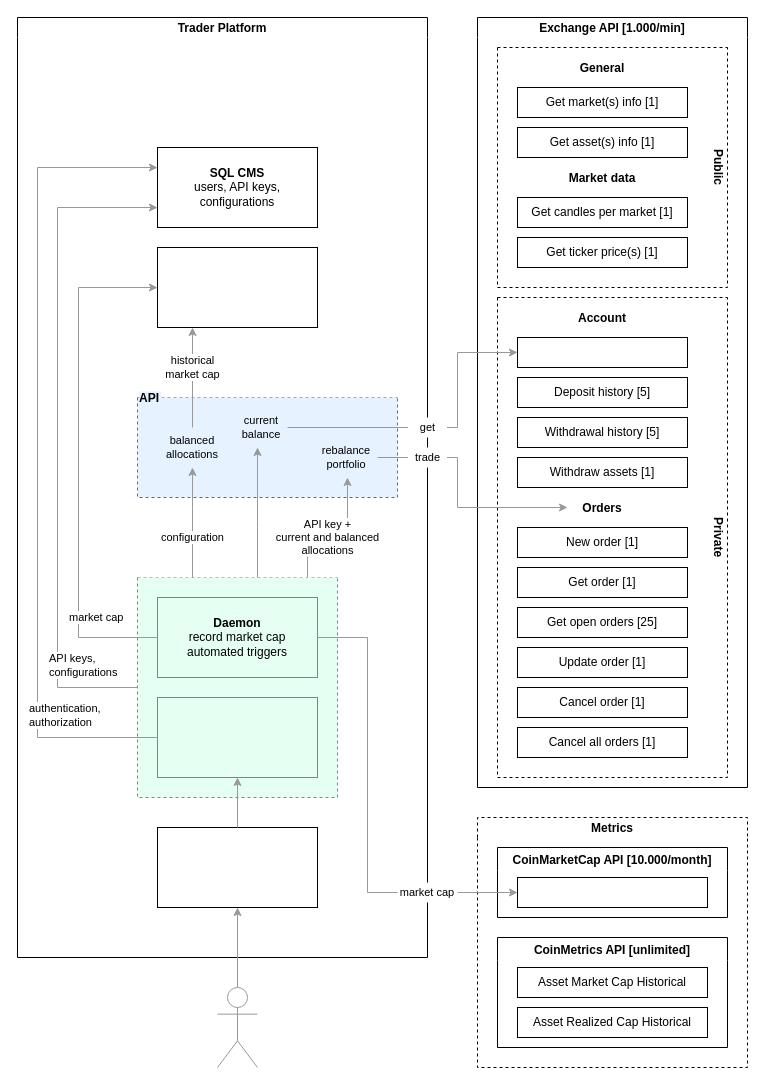
Some shapes in this 765 by 1085 pixel diagram are drawn without their labels. The centre of each missing label's shape, as x and y in pixels:
Get balance [5]: the point at 602,352
GUI overview, configuration and manual triggers: the point at 237,737
Listings Latest [1/200/convert]: the point at 612,892
nginx reverse-proxy and SSL: the point at 237,867
SQL Trader historical market cap: the point at 237,287
